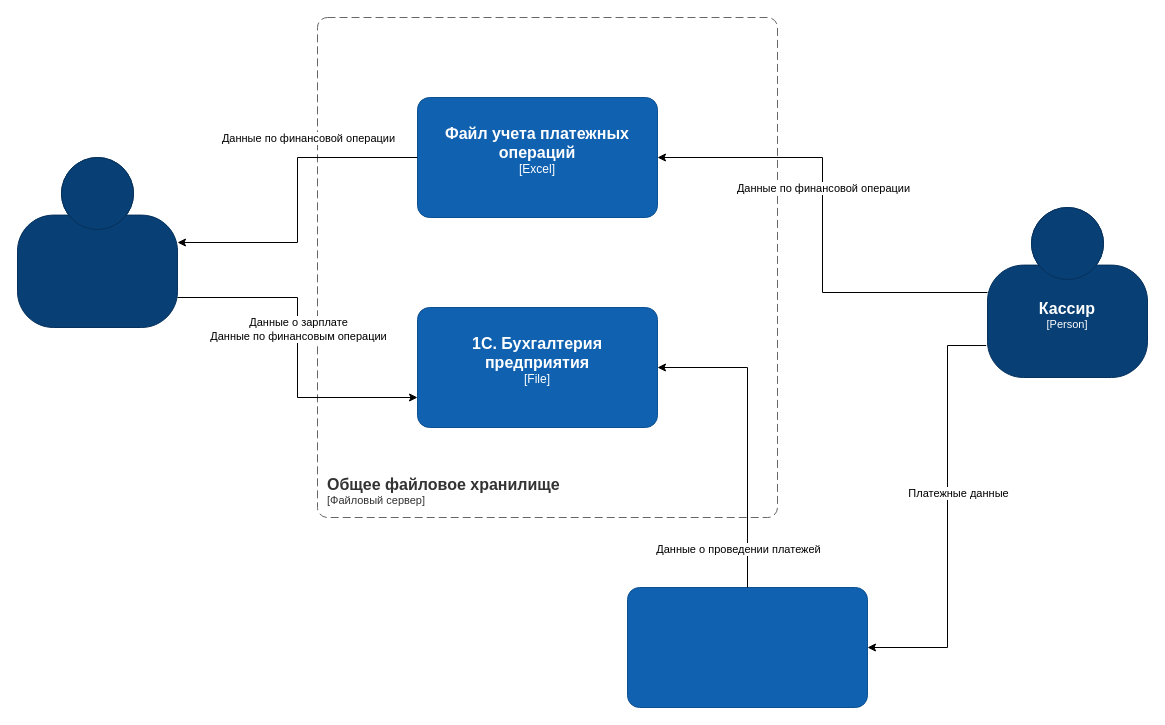
This 1165x725 diagram has some shape labels left out. The shapes that lost their labels are listed below. From the top down, each one's box as (x1, y1, x2, y2) in pixels, then its label:
(16, 156, 178, 328): Бухгалтер [Person]
(626, 586, 868, 708): ККМ [Hardware]
